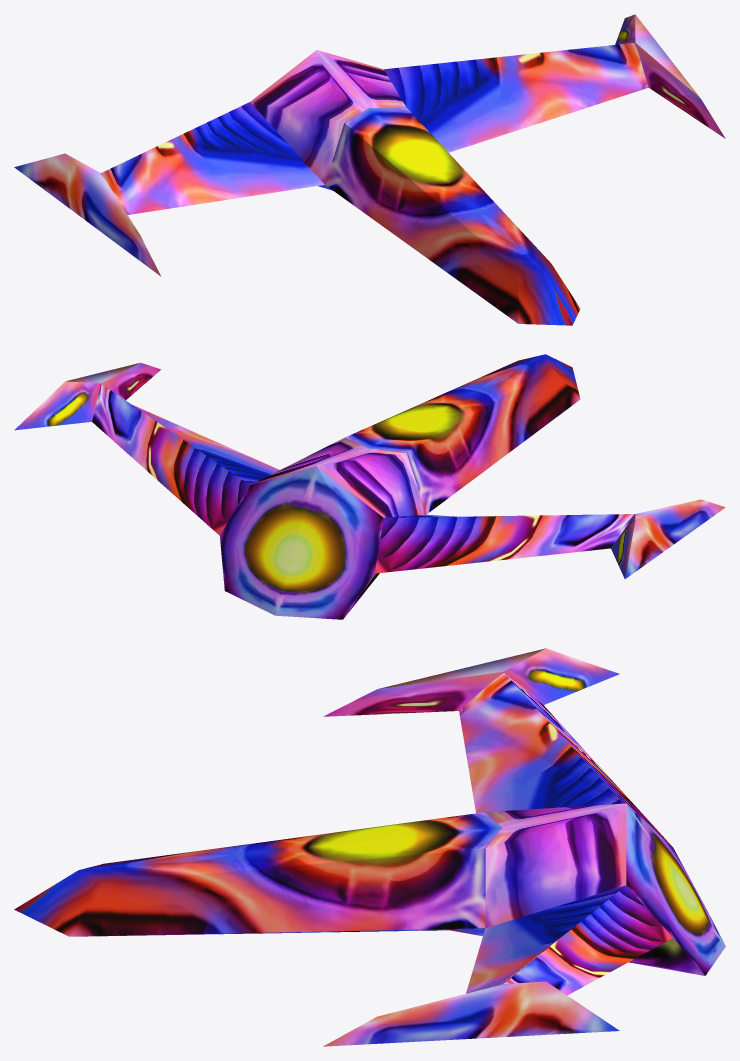
Rendered from ship-21.fbx.
3 views of the same model, one above another, from view 1: azimuth 30°, elevation 25°; view 2: azimuth 150°, elevation 25°; view 3: azimuth 270°, elevation 25° (orthographic). The views are drawn at different scales.
Visible parts, largest first — view 1: ship-21; view 2: ship-21; view 3: ship-21.
Part boxes in pixels (x1=…): ship-21: x1=14, y1=14, x2=725, y2=325; ship-21: x1=14, y1=354, x2=725, y2=619; ship-21: x1=14, y1=648, x2=725, y2=1046.
Size of the model in its own units: 91.09 by 17.01 by 76.78.
